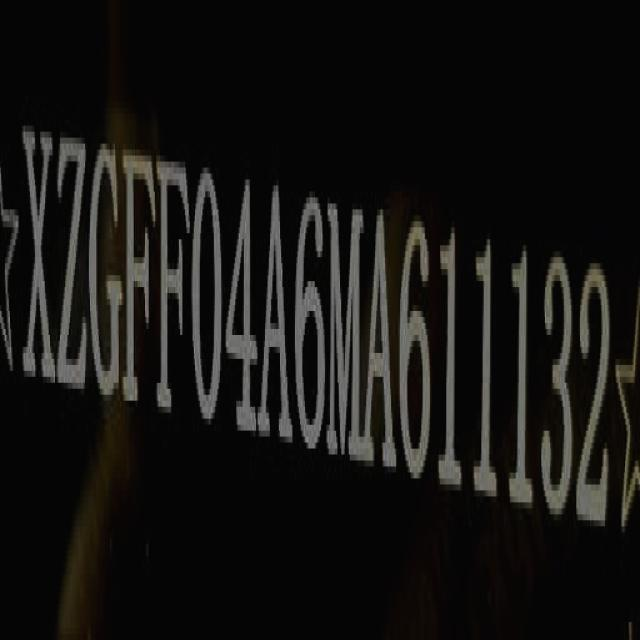0: (194, 156, 224, 442)
1: (472, 228, 498, 517), (508, 235, 533, 524), (438, 216, 462, 504)
2: (581, 256, 613, 543)
3: (544, 244, 576, 534)
4: (226, 161, 256, 444)
6: (399, 212, 434, 493), (298, 181, 328, 463)
A: (261, 174, 291, 456), (366, 199, 394, 482)
F: (126, 138, 157, 425), (160, 137, 189, 428)
G: (91, 122, 122, 414)
M: (330, 189, 360, 473)
X: (23, 111, 54, 398)
Z: (59, 122, 87, 410)
